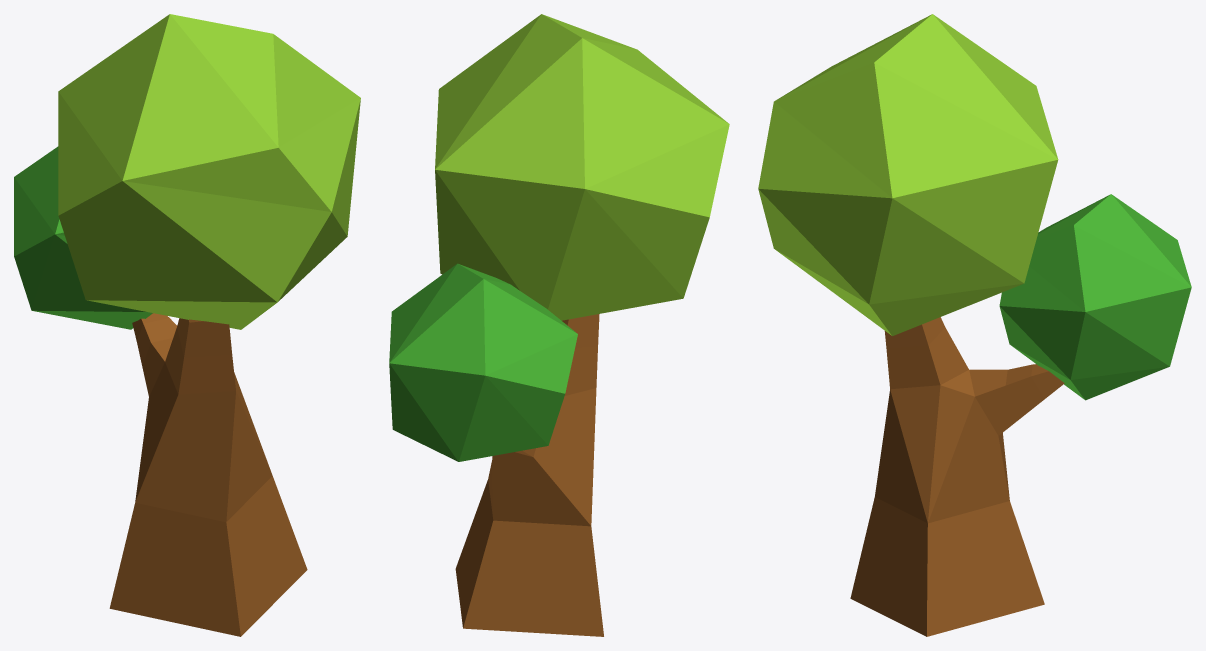
File: tree4.fbx
3 renders of one model, left to right at view 1: azimuth 30°, elevation 25°; view 2: azimuth 150°, elevation 25°; view 3: azimuth 270°, elevation 25°, orthographic. The views are drawn at different scales.
Visible parts, largest first — view 1: Icosphere, Cube, Icosphere.001; view 2: Icosphere, Icosphere.001, Cube; view 3: Icosphere, Cube, Icosphere.001.
Boxes of the visible parts, box(x1,y1,x2,y2) form: Icosphere: box(58, 14, 360, 329); Cube: box(109, 313, 307, 636); Icosphere.001: box(14, 146, 152, 329); Icosphere: box(435, 14, 729, 320); Icosphere.001: box(389, 263, 577, 461); Cube: box(455, 314, 603, 636); Icosphere: box(758, 14, 1058, 335); Cube: box(850, 317, 1064, 636); Icosphere.001: box(999, 194, 1191, 400).
Bounding box in the file's own units: 114 × 224 × 154.
